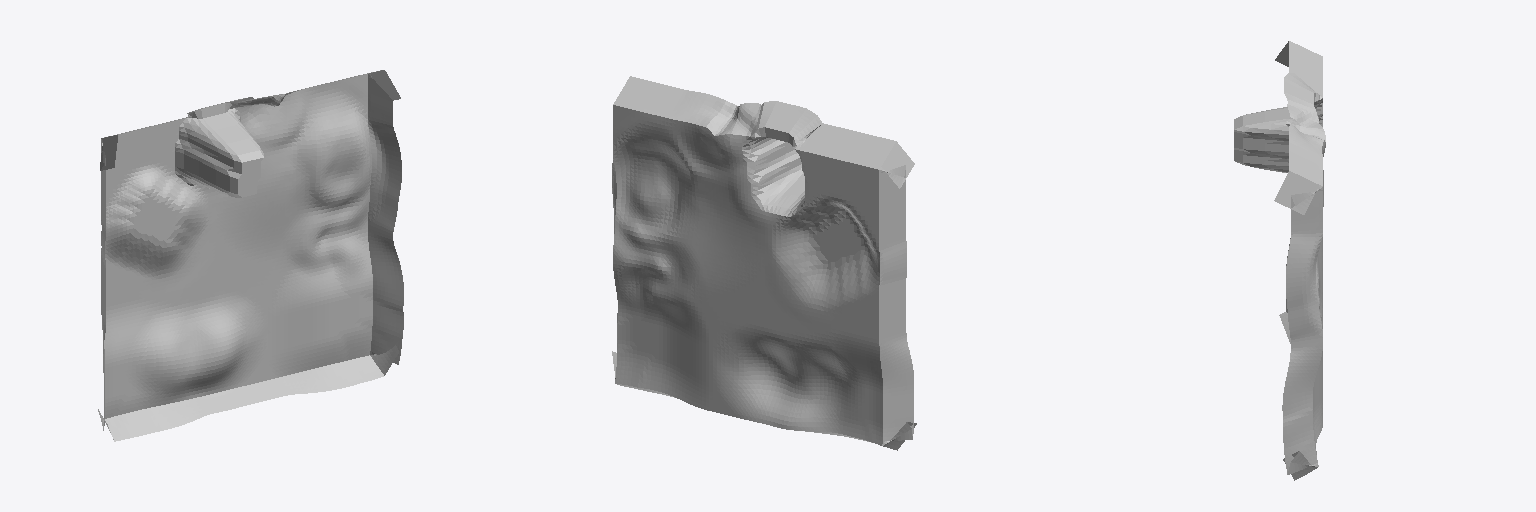
Rendered from terrain.obj.
The picture shows the model from 3 angles: view 1: azimuth 30°, elevation 25°; view 2: azimuth 150°, elevation 25°; view 3: azimuth 270°, elevation 25°; orthographic projection.
Size of the model in its own units: 41.22 by 41.9 by 10.95.